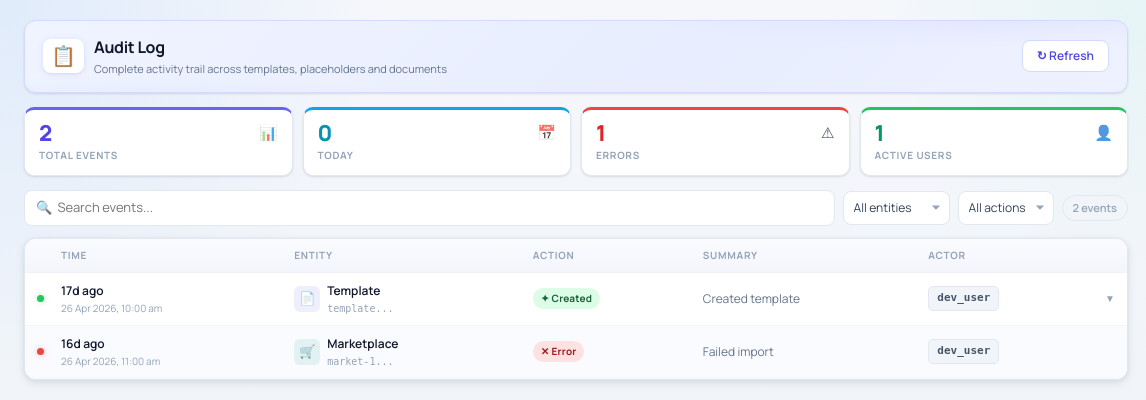
Test: AuditLogPage › should_filter_events_by_search_text
The image size is (1146, 400).
Expected: the text "Created template" is shown, [703,290,800,307]
In the field with placeholder "🔍 Search events...": (429, 208) [24,190,835,226], type "failed"
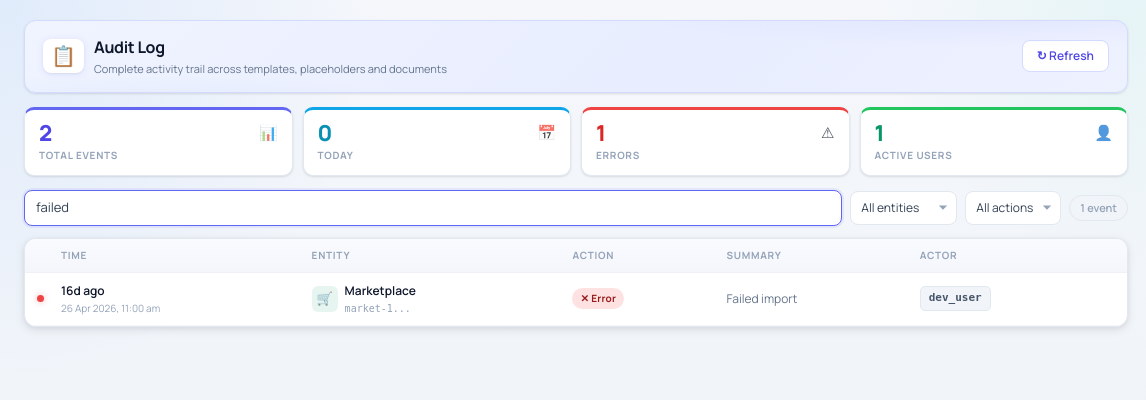
Expected: the text "Failed import" is shown, [726,290,797,307]
Result: the text "Created template" is gone
